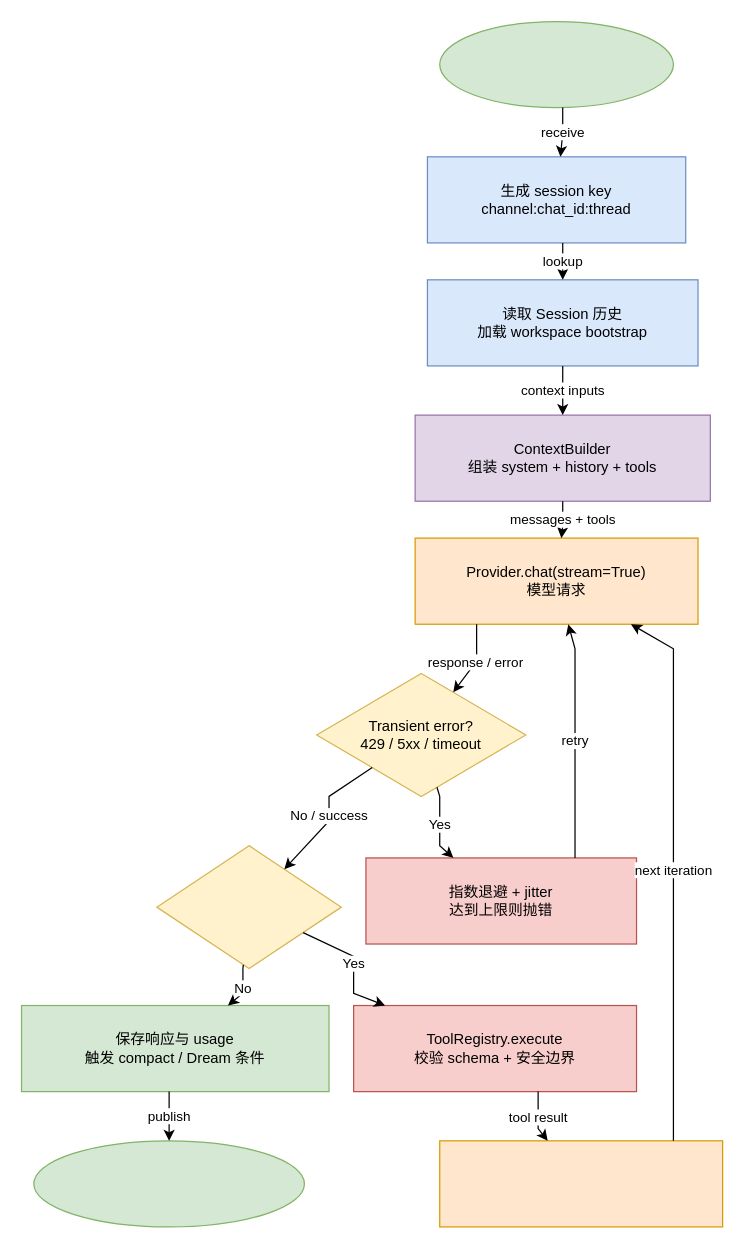
The diagram is 744 pixels wide and 1248 high, and some of its shapes have lost their labels. The box of each missing label's shape, as (x1, y1, x2, y2) in pixels:
InboundMessage channel + chat_id + content: (438, 20, 673, 108)
OutboundMessage 返回 Channel / WebUI: (33, 1140, 304, 1227)
有 tool_call?: (156, 844, 341, 969)
追加 assistant/tool 消息 回到模型继续对话: (438, 1140, 723, 1227)
